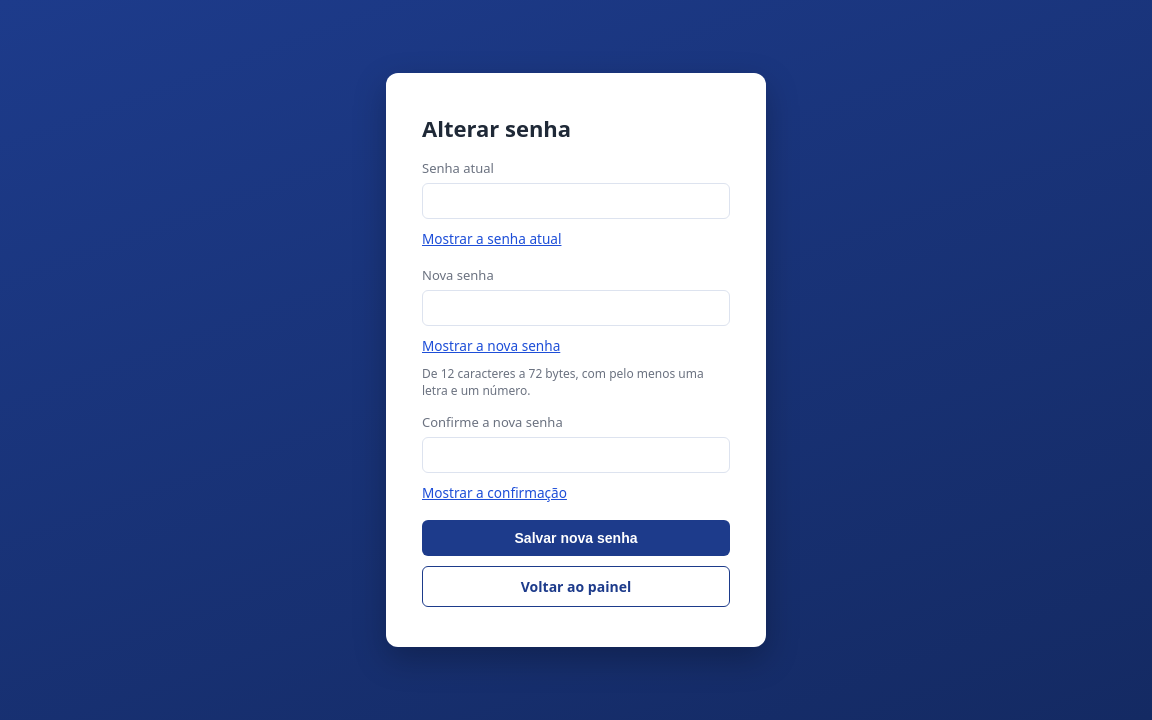
Test: página de alteração de senha › com a senha atual errada, mostra o erro no campo da senha atual
The image size is (1152, 720).
In the password field labelled "Senha atual": (576, 201) [422,183,730,219], type "senha-errada"
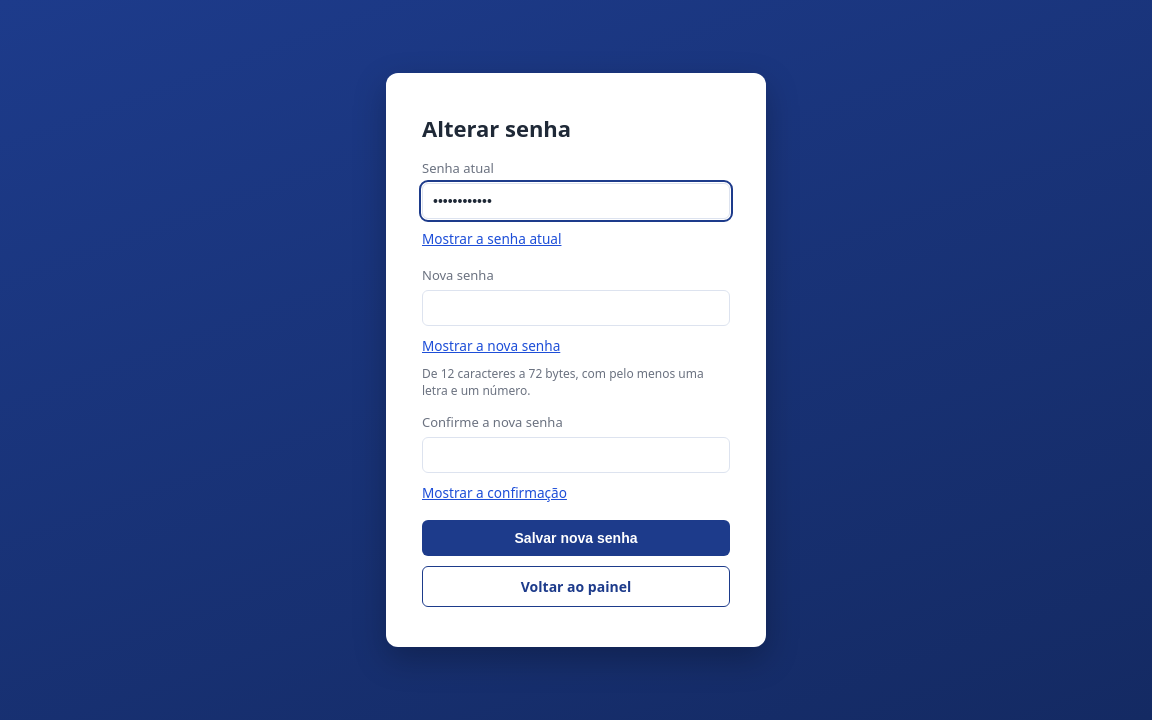
In the password field labelled "Nova senha": (576, 308) [422,290,730,326], type "Fresa2026retifica"
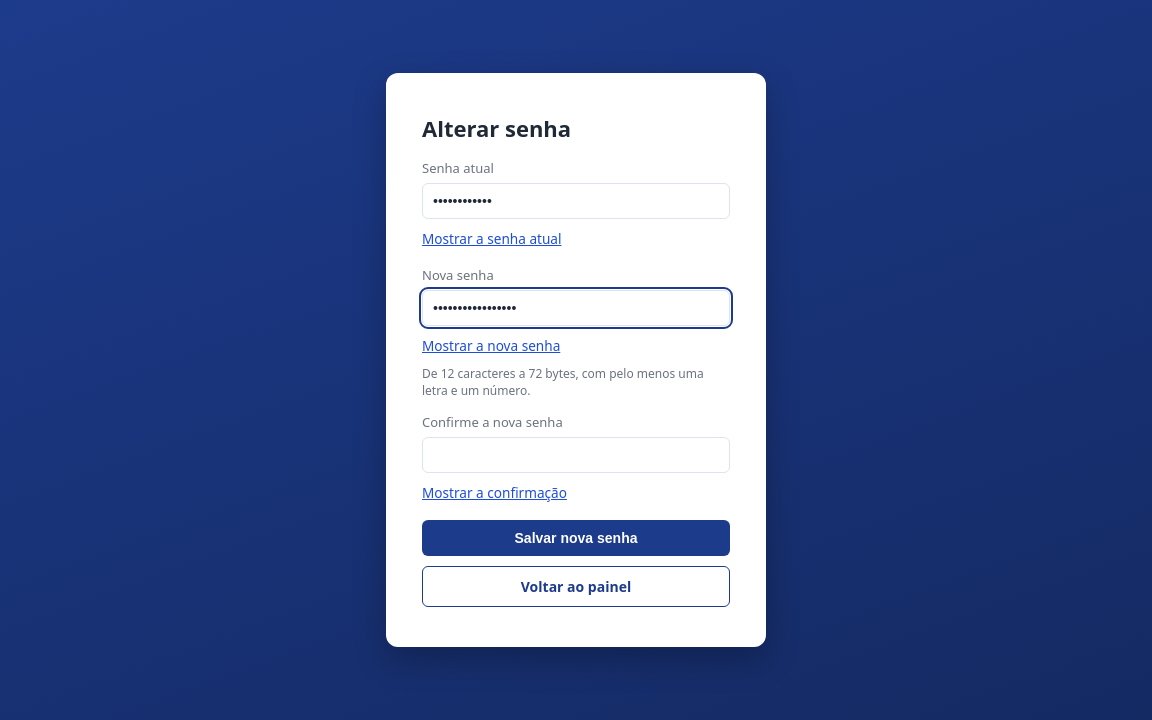
In the password field labelled "Confirme a nova senha": (576, 455) [422,437,730,473], type "Fresa2026retifica"
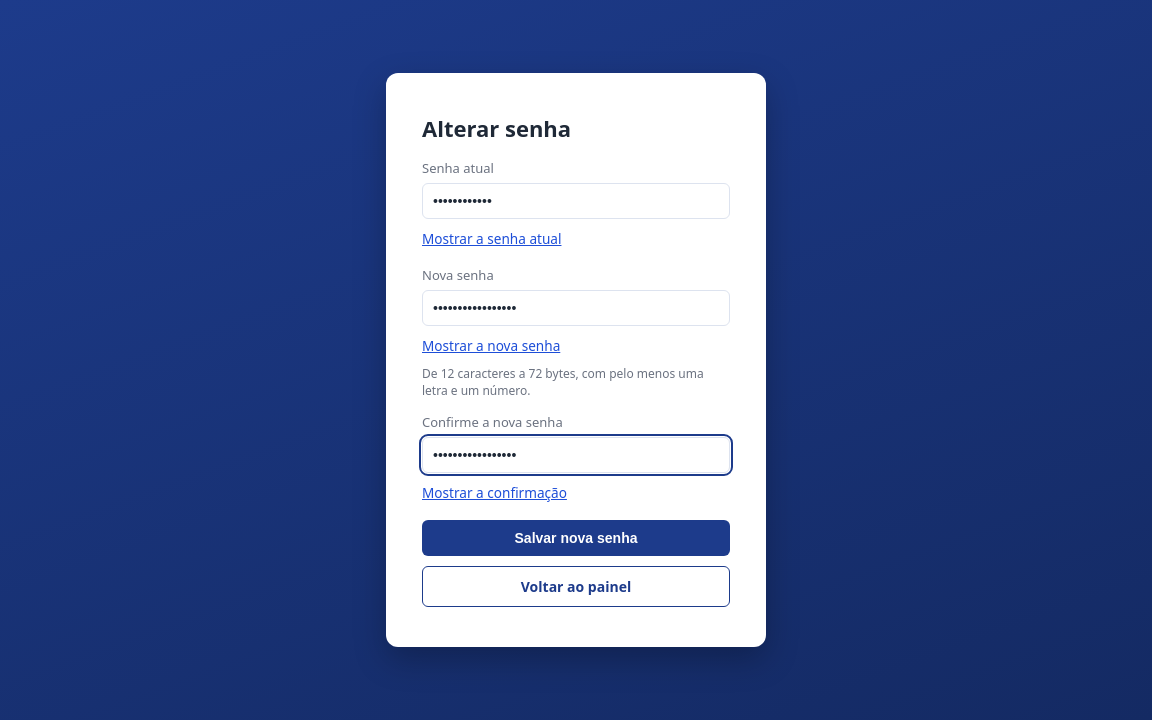
Click the button "Salvar nova senha": (576, 538) [422,520,730,556]
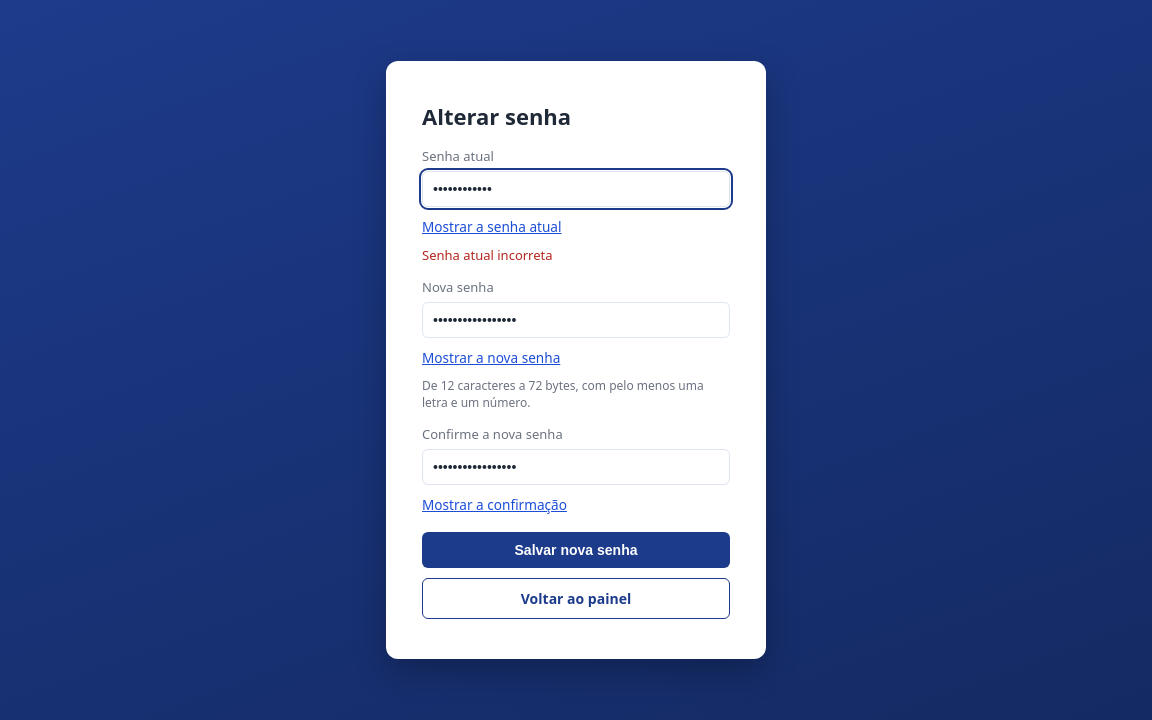
Check: the button "Salvar nova senha" is enabled, box [422,532,730,568]
Check: the text "Senha atual incorreta" is shown, box [422,246,552,264]
